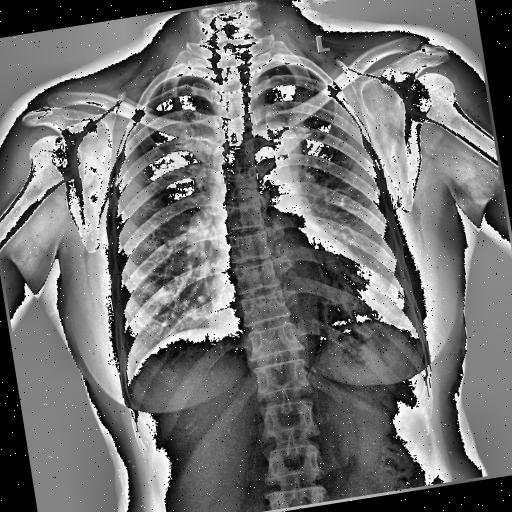0- Aortic enlargement: (247, 116, 303, 184), (244, 119, 304, 178), (246, 120, 302, 176)
3- Cardiomegaly: (205, 255, 396, 351), (202, 241, 378, 345), (204, 276, 398, 350)
